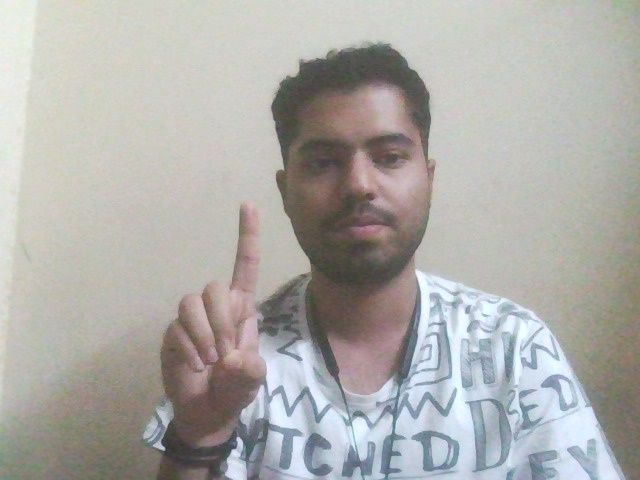Please: (134, 187, 290, 444)
